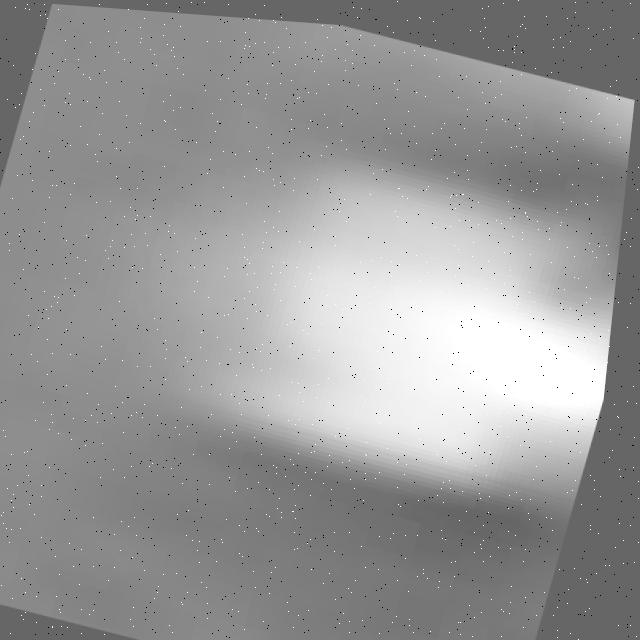person: (54, 93, 634, 541), (242, 16, 640, 146)
